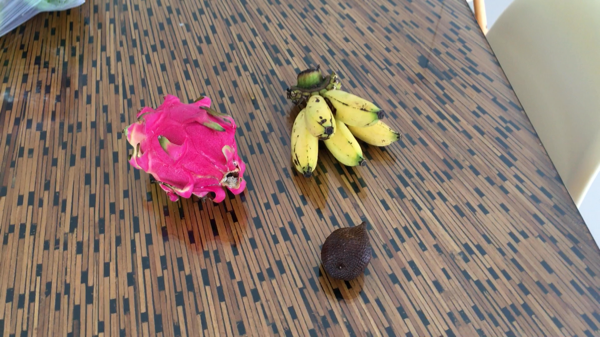banana: (286, 65, 397, 171)
dragon fruit: (123, 98, 247, 207)
snake fruit: (322, 225, 377, 276)
